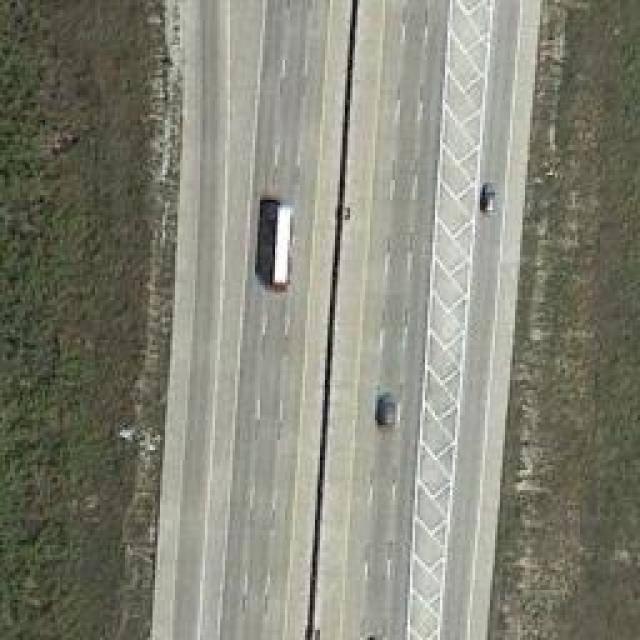Grassland: (0, 0, 175, 638)
Highway: (138, 0, 548, 638)
